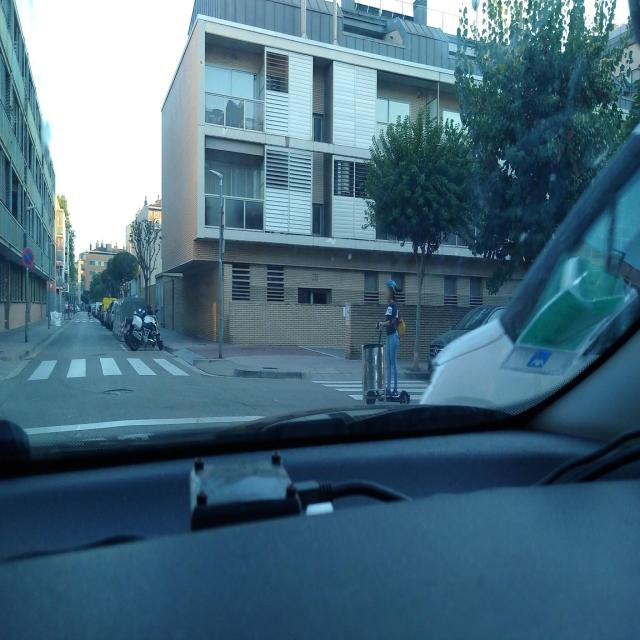forb_stopping: (22, 248, 34, 268)
